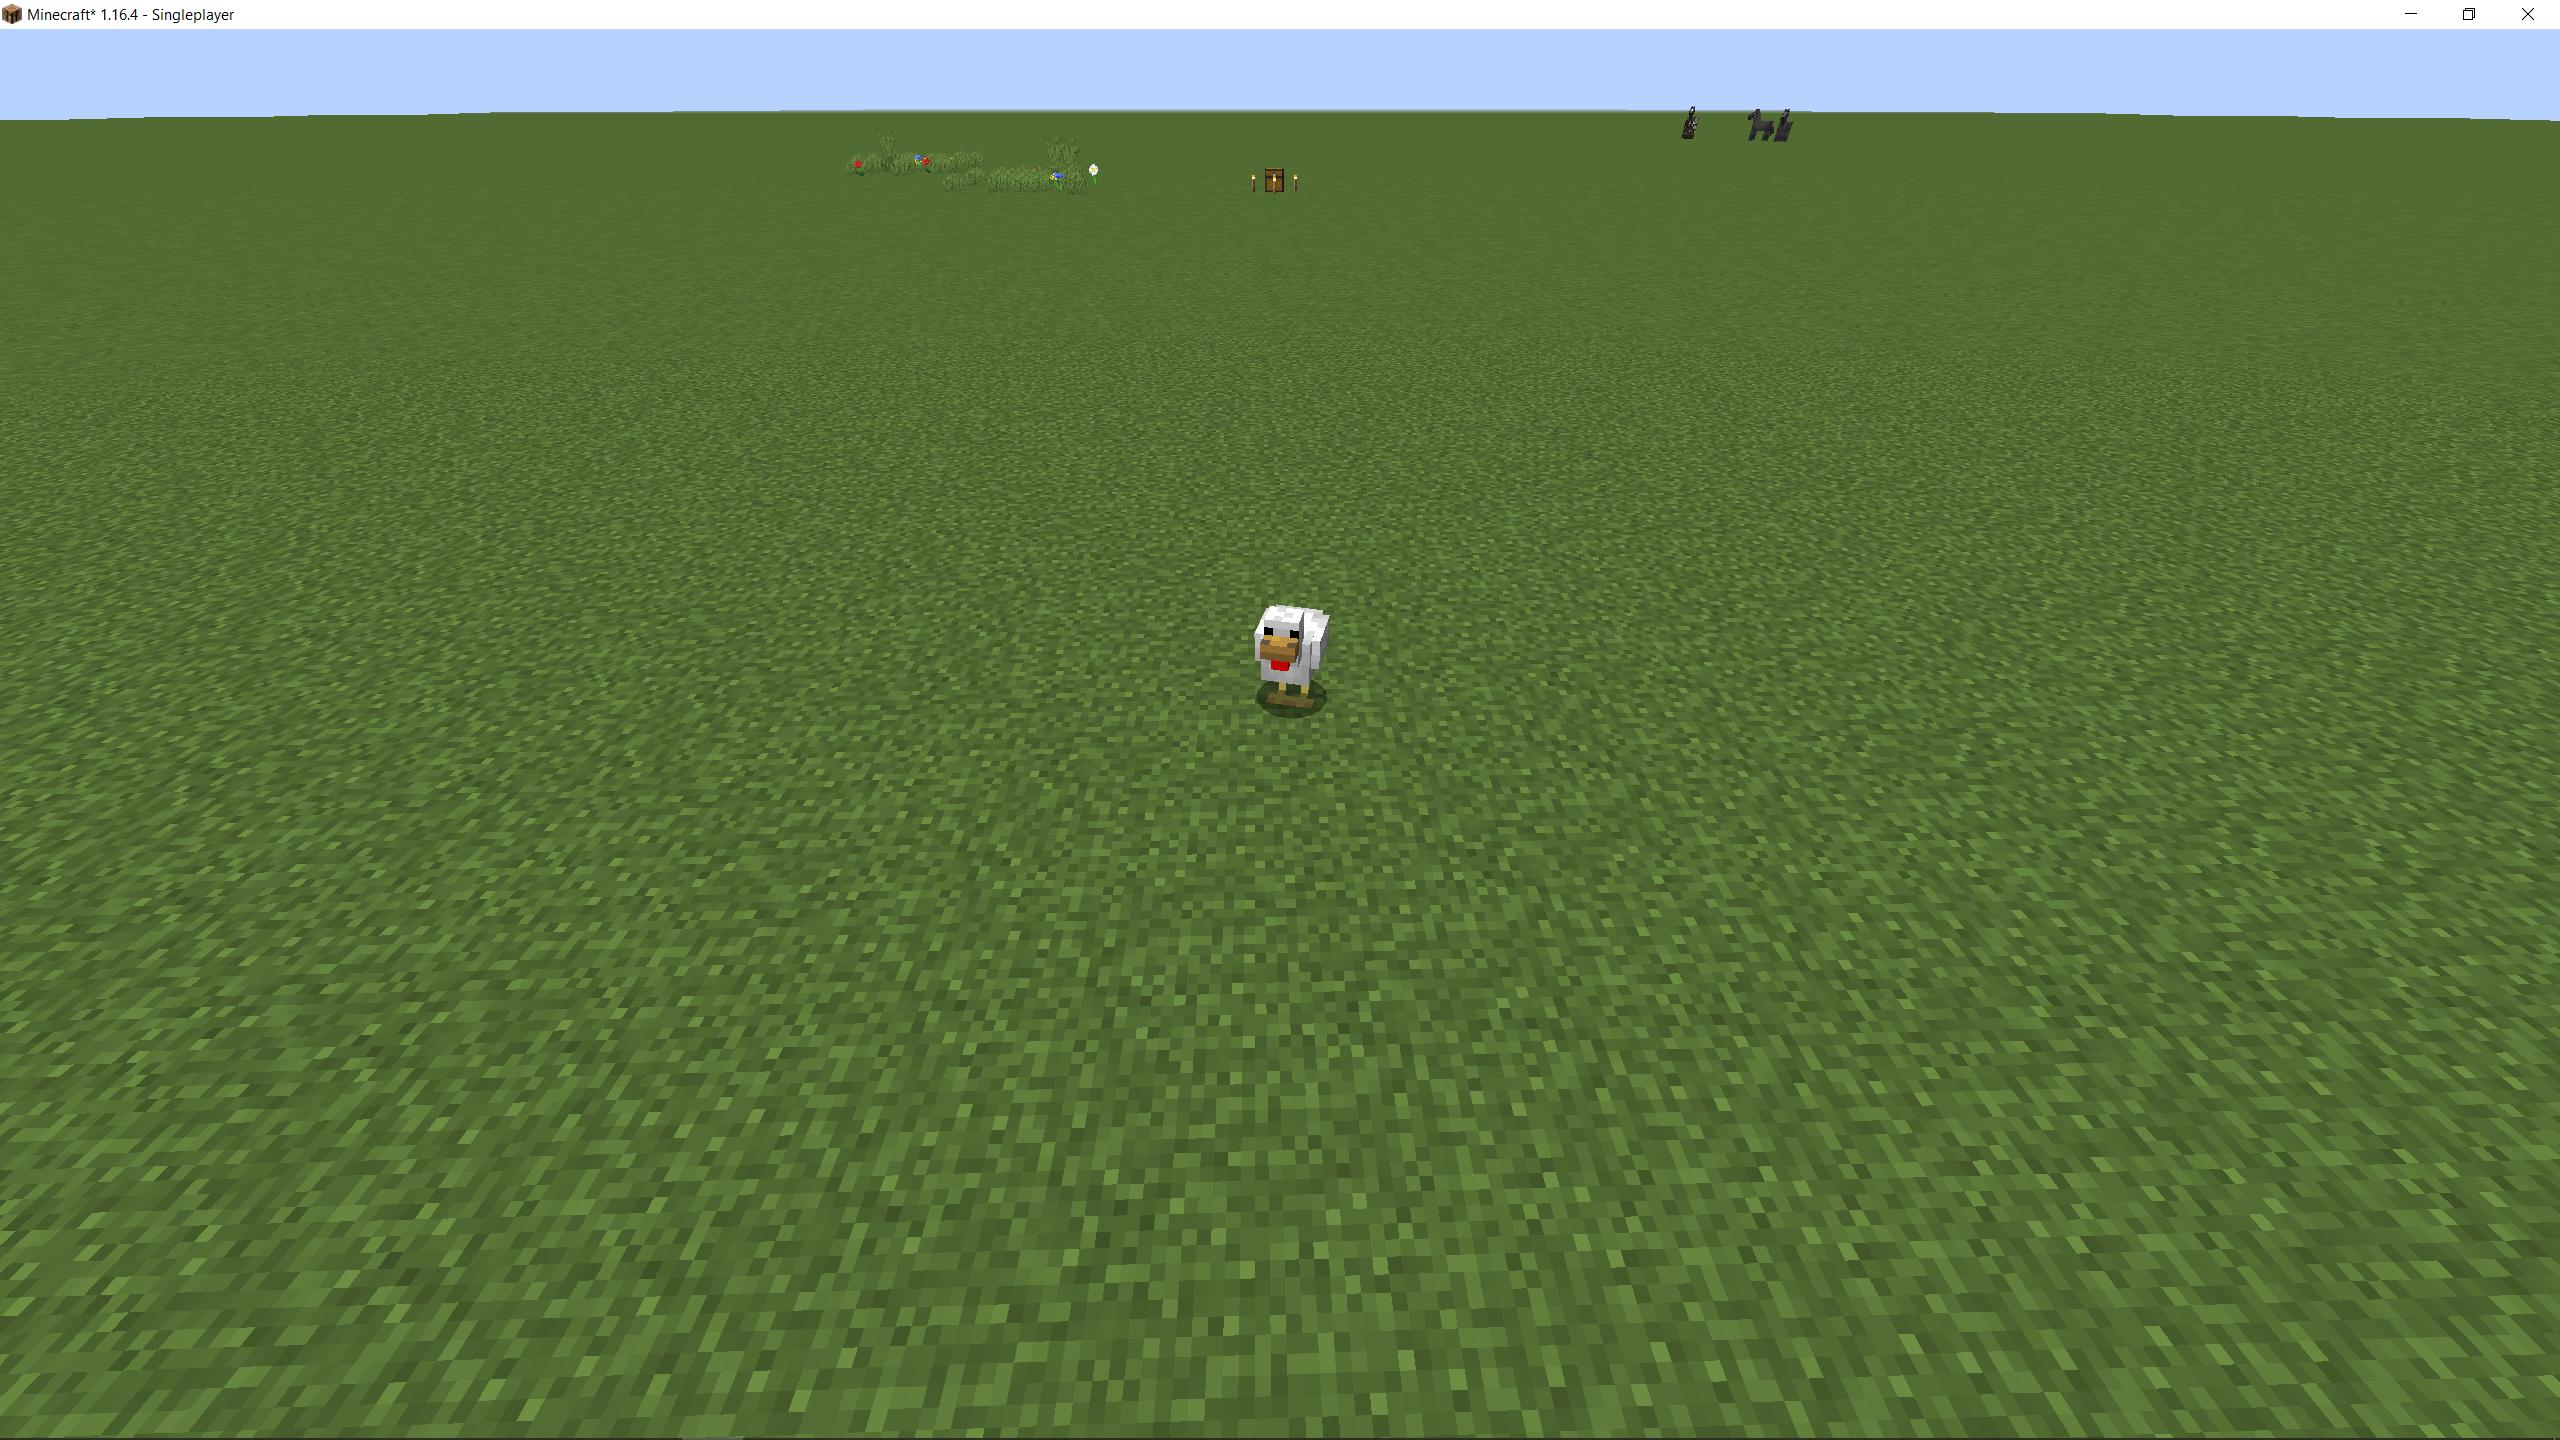chicken: (1247, 598, 1335, 721)
